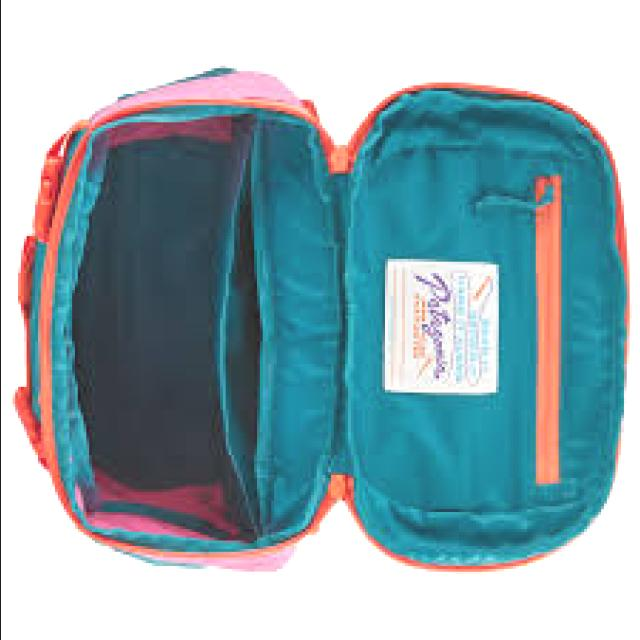backpack: (16, 67, 633, 576)
